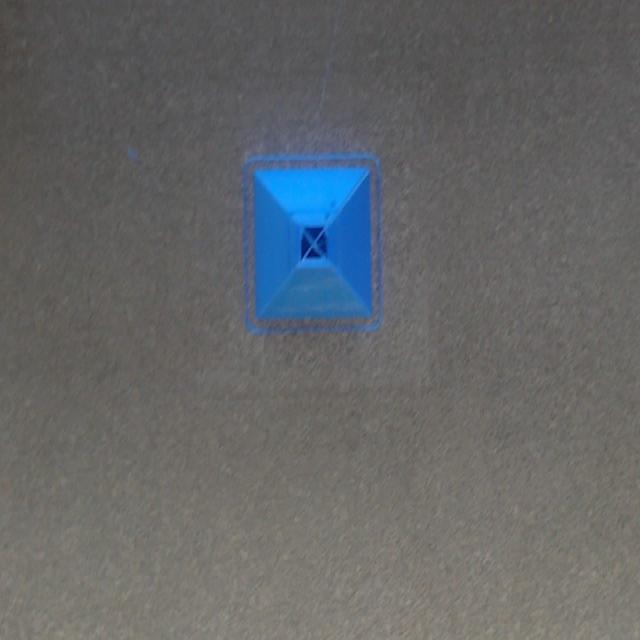mistake: (289, 204, 342, 267)
